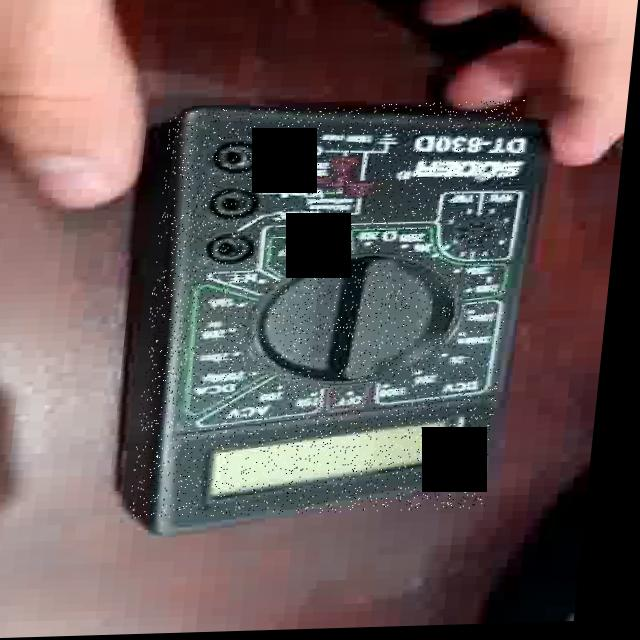multimeter: (140, 103, 530, 520)
